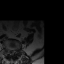CCS_normal: (11, 48, 13, 56)
LFS_normal: (15, 47, 17, 52)
LLS_normal: (13, 48, 15, 55)
RFS_normal: (7, 47, 9, 53)
RLS_normal: (9, 48, 11, 55)
